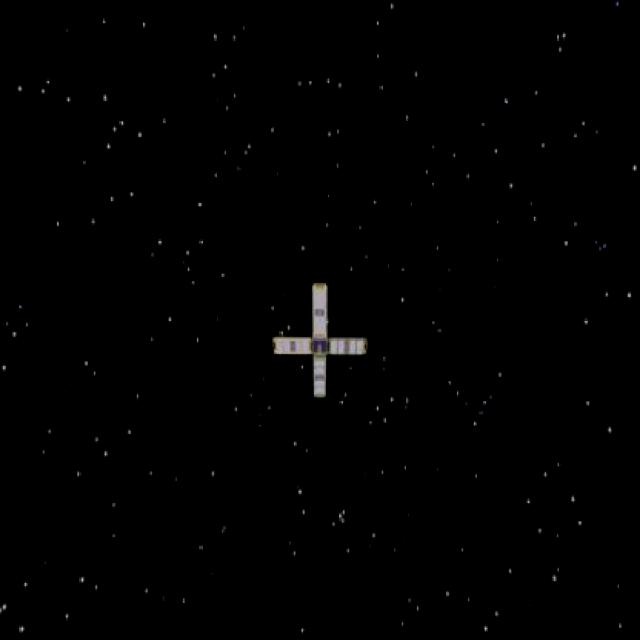medium_debris: (263, 271, 375, 412)
